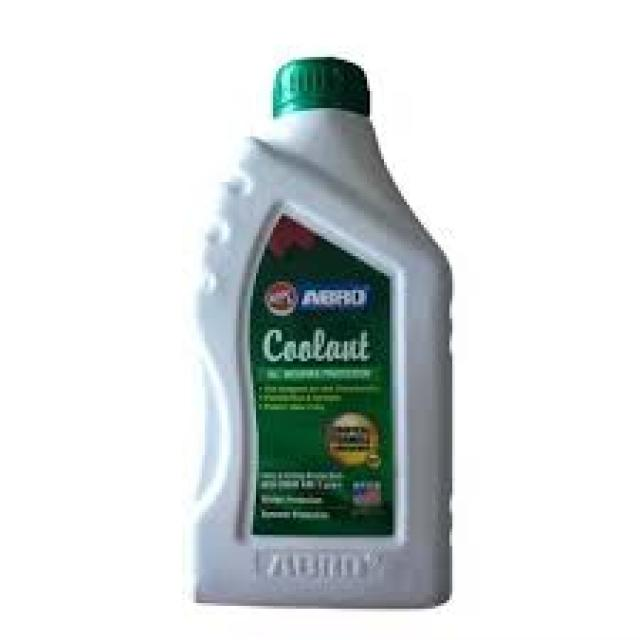coolant: (182, 50, 464, 609)
